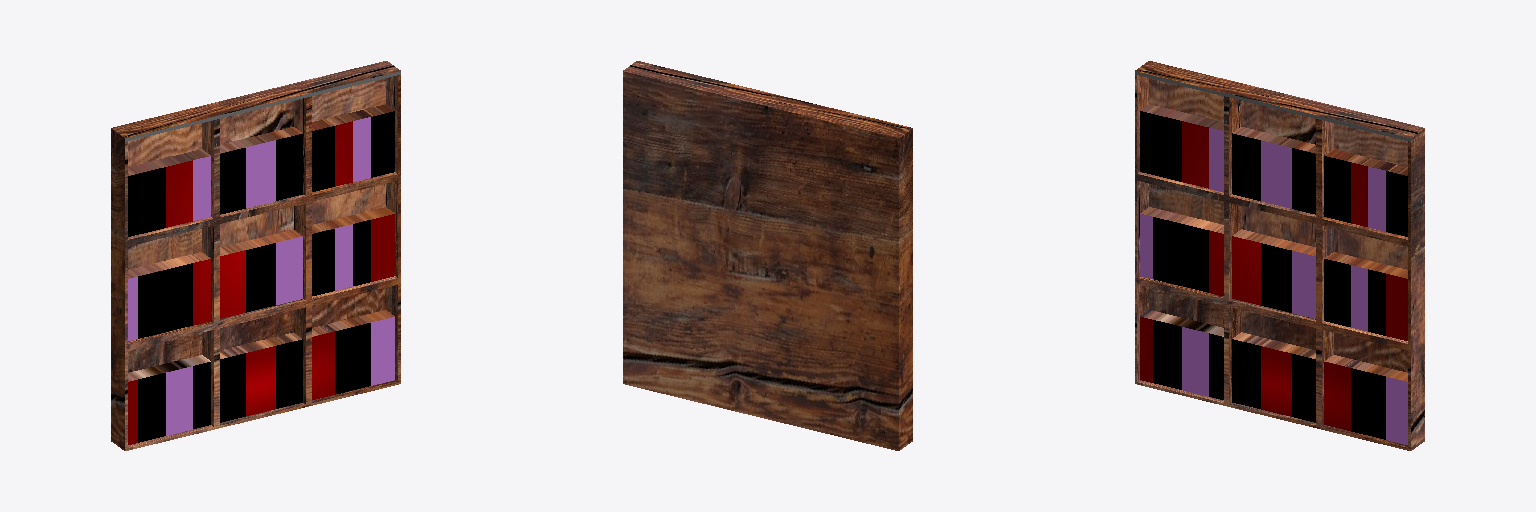
The picture shows the model from 3 angles: view 1: azimuth 30°, elevation 25°; view 2: azimuth 150°, elevation 25°; view 3: azimuth 330°, elevation 25°; orthographic projection.
Bounding box in the file's own units: 15.8 × 17.09 × 1.42.
Materials: 6 (3 with a texture image).